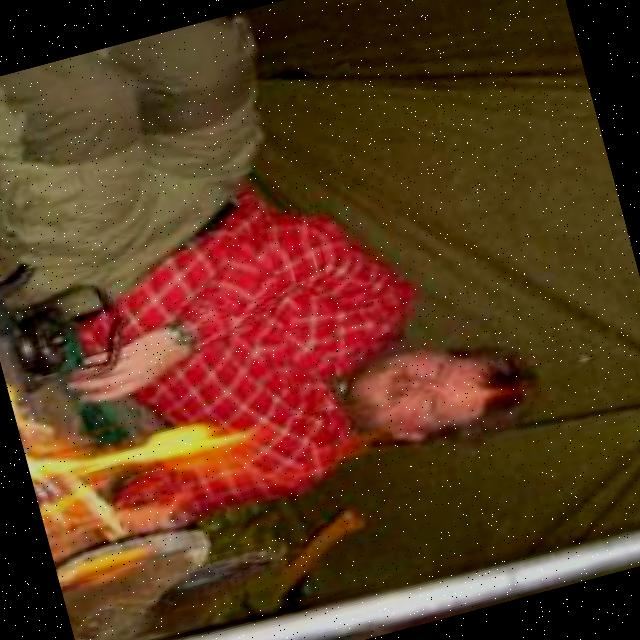fire: (2, 313, 275, 594)
